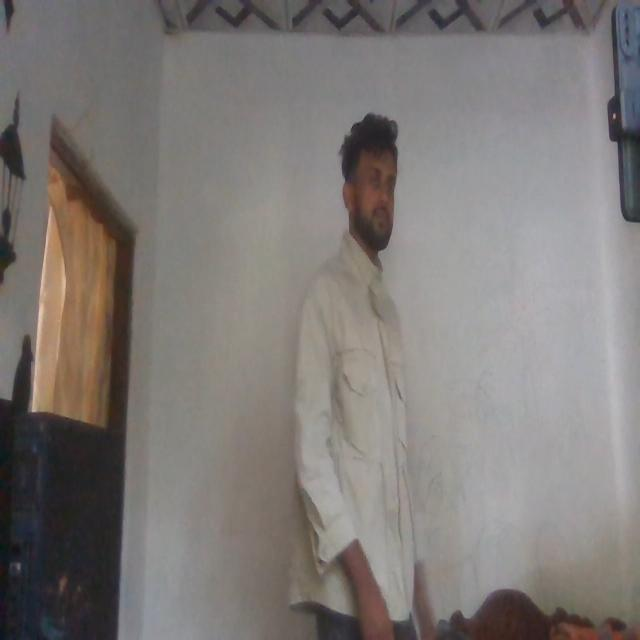Jacket_Wearer: (291, 224, 429, 624)
Person: (289, 101, 436, 640)
